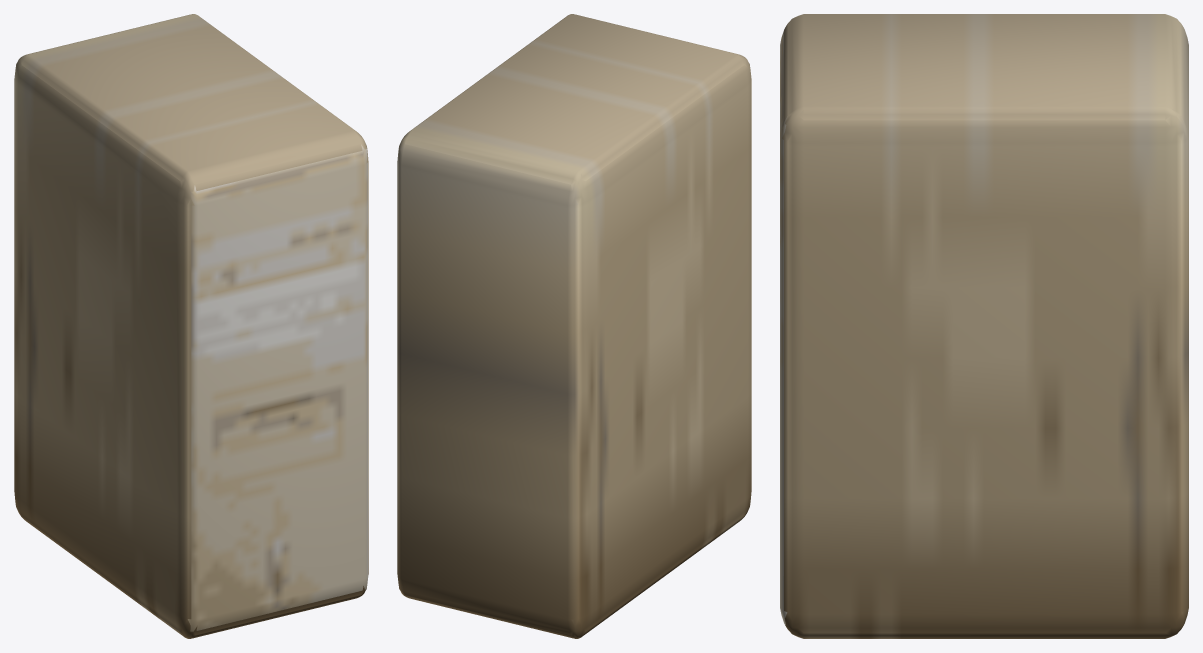
Rendered from chasis.glb.
3 renders of one model, left to right at view 1: azimuth 30°, elevation 25°; view 2: azimuth 150°, elevation 25°; view 3: azimuth 270°, elevation 25°, orthographic. The views are drawn at different scales.
Visible parts, largest first — view 1: Cube.002; view 2: Cube.002; view 3: Cube.002.
Boxes of the visible parts, x1,y1,x2,y2 form: Cube.002: (14, 14, 368, 638); Cube.002: (397, 14, 751, 638); Cube.002: (780, 14, 1188, 638).
Bounding box in the file's own units: 0.5321 × 1.27 × 0.8811.
1 material, 1 textured.
